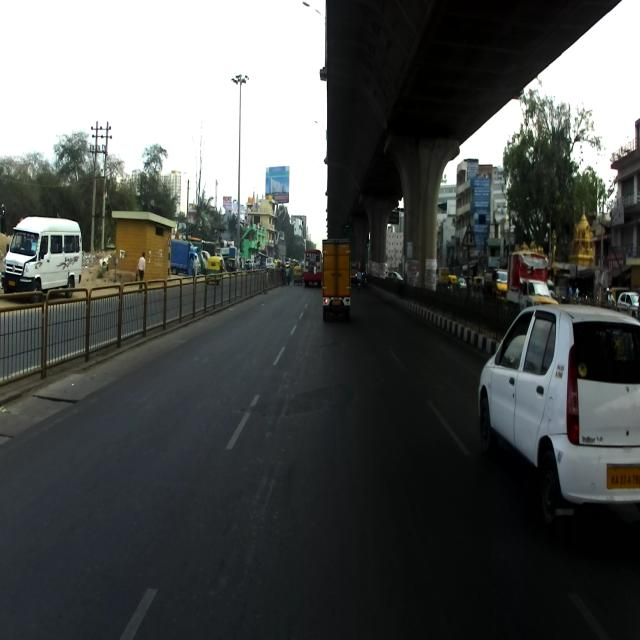car ahead at: (481, 301, 640, 503)
truck ahead at: (321, 234, 354, 320)
